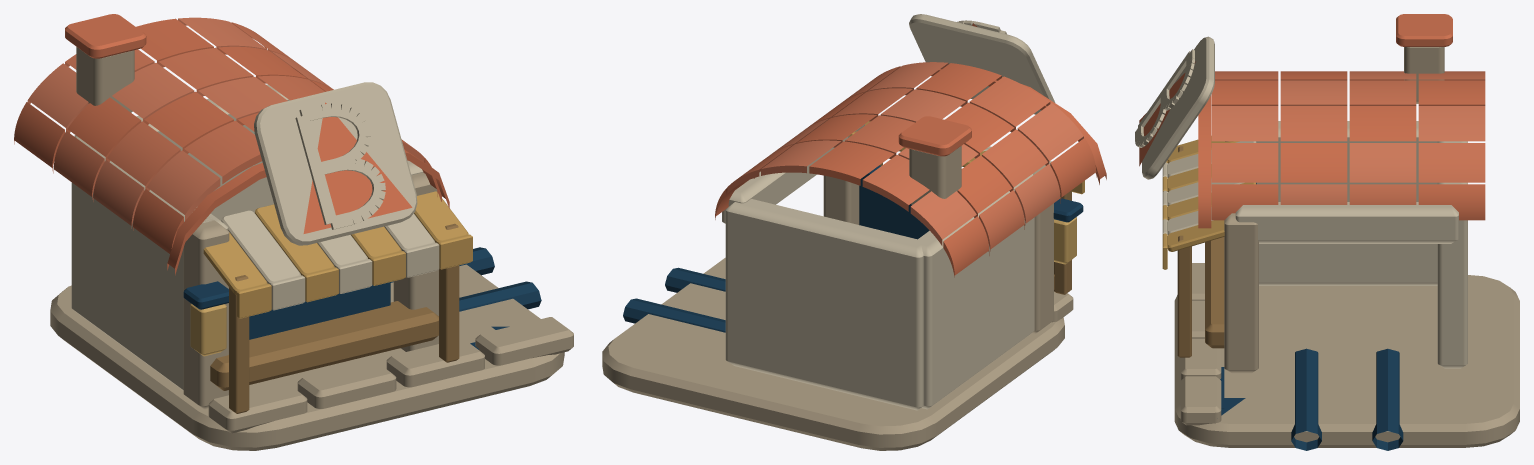
File: guichet_b.glb
The picture shows the model from 3 angles, left to right: view 1: azimuth 30°, elevation 25°; view 2: azimuth 150°, elevation 25°; view 3: azimuth 270°, elevation 25°; orthographic projection. The views are drawn at different scales.
Visible parts, largest first — view 1: Batch_Limestone, Batch_Porcelain, Batch_EnamelB2, Batch_HoneyWood, Batch_EnamelB0, Batch_PorcelainSign, Batch_EnamelB1, Batch_Canvas0, Batch_Canvas1, Batch_PaintedMetal, Batch_EnamelB, Batch_SignalInk (+2 smaller); view 2: Batch_Porcelain, Batch_Limestone, Batch_EnamelB0, Batch_EnamelB1, Batch_EnamelB2, Batch_PorcelainSign, Batch_PaintedMetal, Batch_EnamelB, Batch_LanternAmber, Batch_HoneyWood; view 3: Batch_Limestone, Batch_Porcelain, Batch_EnamelB0, Batch_EnamelB1, Batch_EnamelB2, Batch_PaintedMetal, Batch_HoneyWood, Batch_PorcelainSign, Batch_EnamelB, Batch_Canvas0, Batch_Canvas1, Batch_SignalInk (+1 smaller).
Part boxes in pixels (<box>): Batch_Limestone: <box>50,47,573,450</box>; Batch_Porcelain: <box>71,84,423,390</box>; Batch_EnamelB2: <box>27,17,333,228</box>; Batch_HoneyWood: <box>210,223,459,413</box>; Batch_EnamelB0: <box>14,18,437,253</box>; Batch_PorcelainSign: <box>254,82,417,245</box>; Batch_EnamelB1: <box>53,22,423,199</box>; Batch_Canvas0: <box>203,191,472,318</box>; Batch_Canvas1: <box>221,210,439,310</box>; Batch_PaintedMetal: <box>183,247,541,349</box>; Batch_EnamelB: <box>65,14,449,275</box>; Batch_SignalInk: <box>295,103,385,229</box>; Batch_Porcelain: <box>722,137,1034,410</box>; Batch_Limestone: <box>602,124,1073,450</box>; Batch_EnamelB0: <box>715,63,1096,277</box>; Batch_EnamelB1: <box>727,66,1050,251</box>; Batch_EnamelB2: <box>761,62,1083,245</box>; Batch_PorcelainSign: <box>909,14,1055,114</box>; Batch_PaintedMetal: <box>623,165,1083,332</box>; Batch_EnamelB: <box>867,69,1106,184</box>; Batch_LanternAmber: <box>1054,217,1076,264</box>; Batch_HoneyWood: <box>879,163,1071,294</box>; Batch_Limestone: <box>1174,47,1519,447</box>; Batch_Porcelain: <box>1235,121,1467,368</box>; Batch_EnamelB0: <box>1211,71,1485,220</box>; Batch_EnamelB1: <box>1211,71,1485,204</box>; Batch_EnamelB2: <box>1211,71,1485,204</box>; Batch_PaintedMetal: <box>1220,182,1403,450</box>; Batch_HoneyWood: <box>1177,146,1224,357</box>; Batch_PorcelainSign: <box>1142,36,1214,179</box>; Batch_EnamelB: <box>1198,14,1452,228</box>; Batch_Canvas0: <box>1162,136,1256,269</box>; Batch_Canvas1: <box>1162,141,1256,234</box>; Batch_SignalInk: <box>1135,49,1194,147</box>.
Bounding box in the file's own units: 1.04 × 0.7756 × 0.9473.
